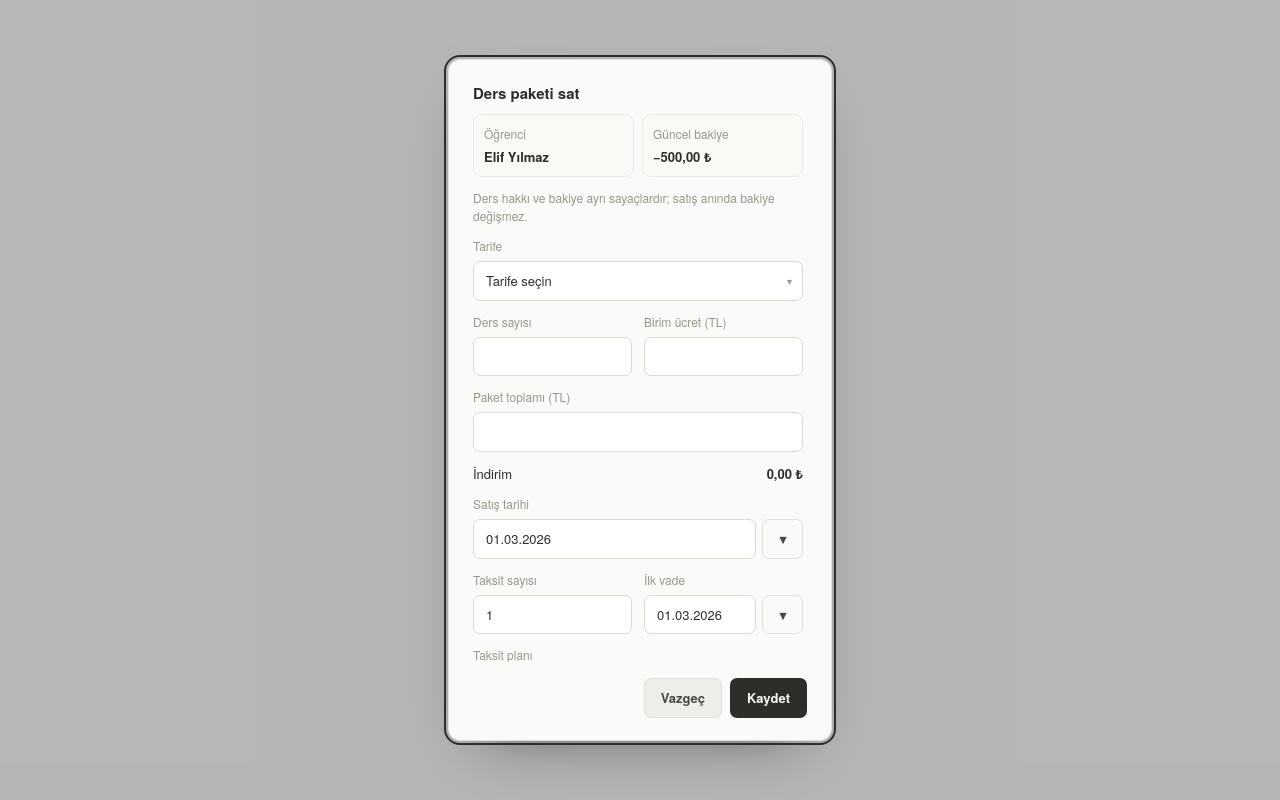
Test: paket satış modalı › bakiye ve ders hakkının ayrı olduğunu, satış özetini gösterir
Select "8 derslik paket" in the dropdown labelled "Tarife" at (638, 281), box [473,261,803,301]
(page scrolled)
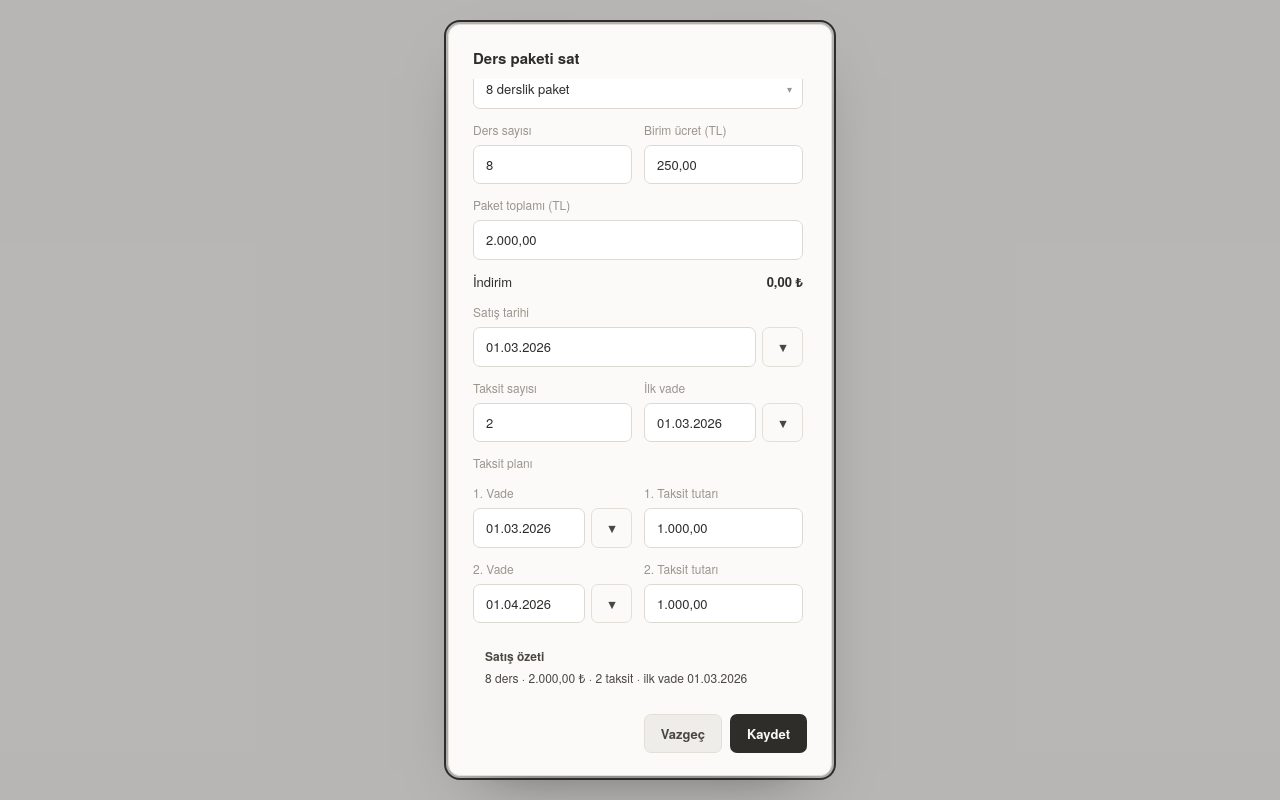
Expected: the text "8 ders · 2.000,00 ₺ · 2 taksit · ilk vade 01.03.2026" is shown, [485,669,791,687]
